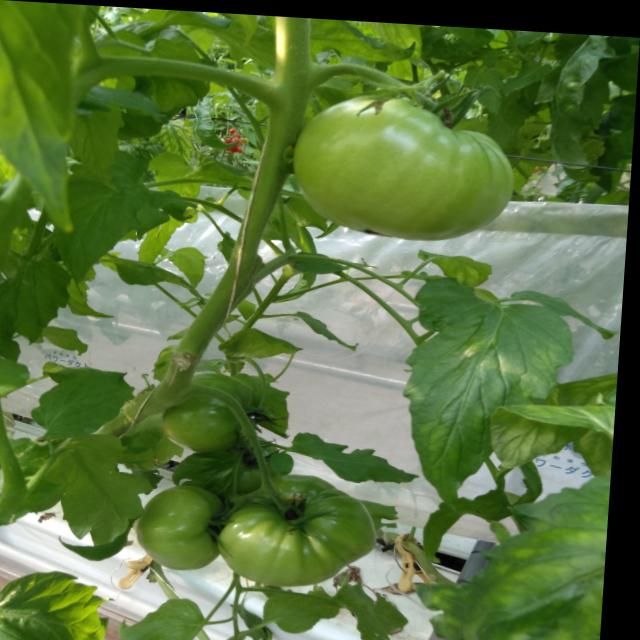yesil: (107, 371, 412, 599), (285, 81, 489, 264), (477, 275, 498, 284)
